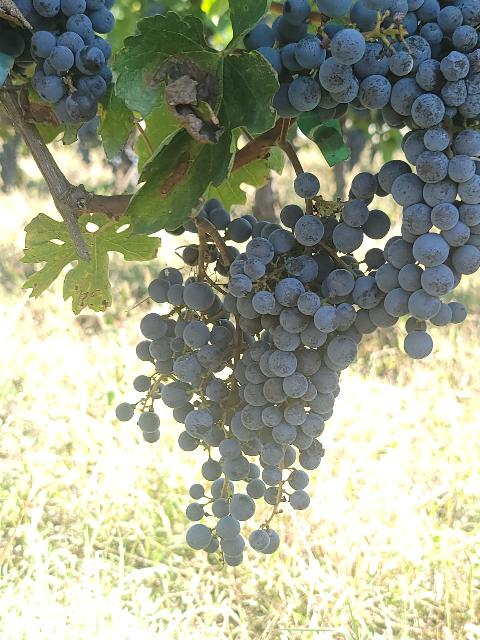grapes: (225, 200, 396, 509), (352, 0, 480, 359), (115, 268, 266, 566), (244, 0, 431, 112), (0, 0, 115, 142)
